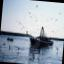fishing boat: (28, 24, 54, 50)
